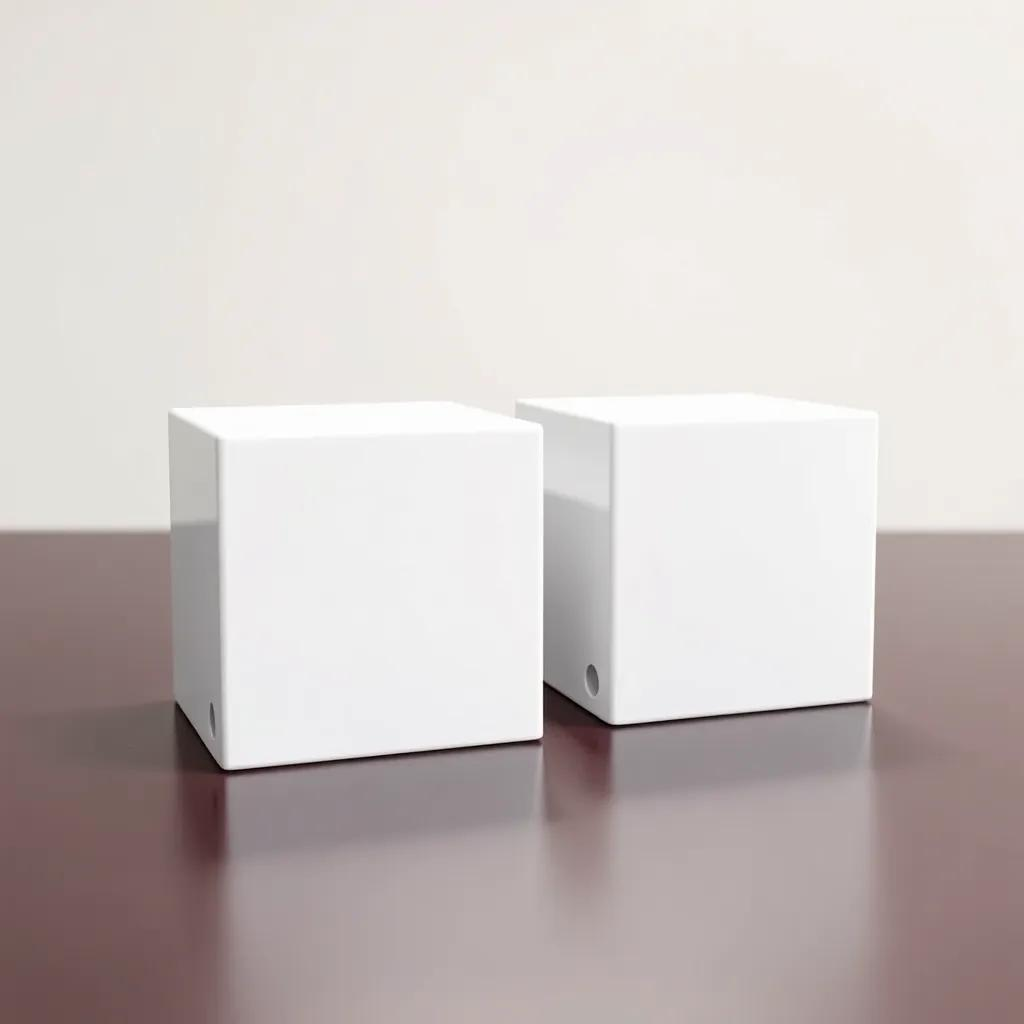cube: (167, 399, 544, 772), (514, 390, 878, 726)
